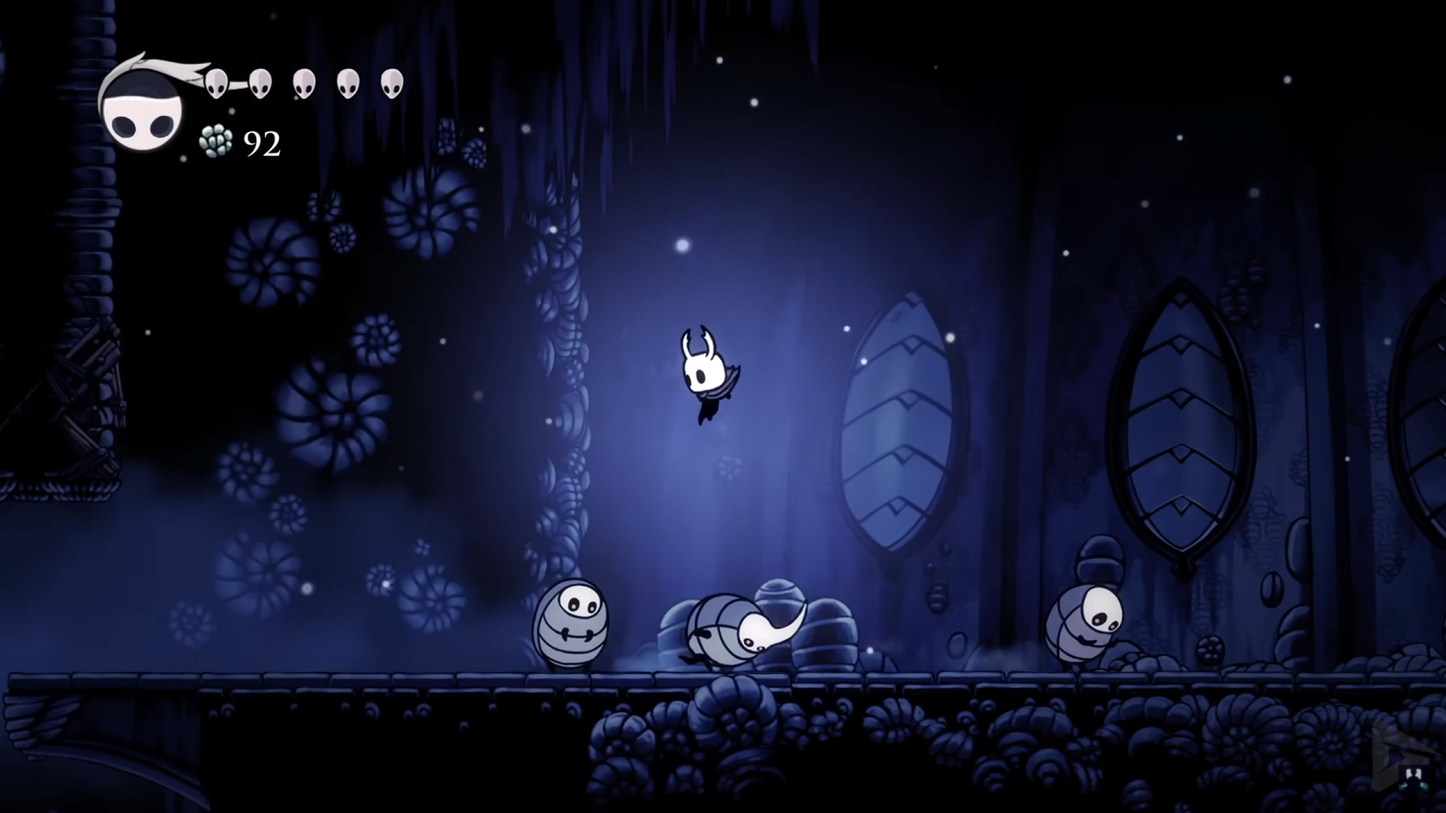HK: (668, 325, 741, 422)
